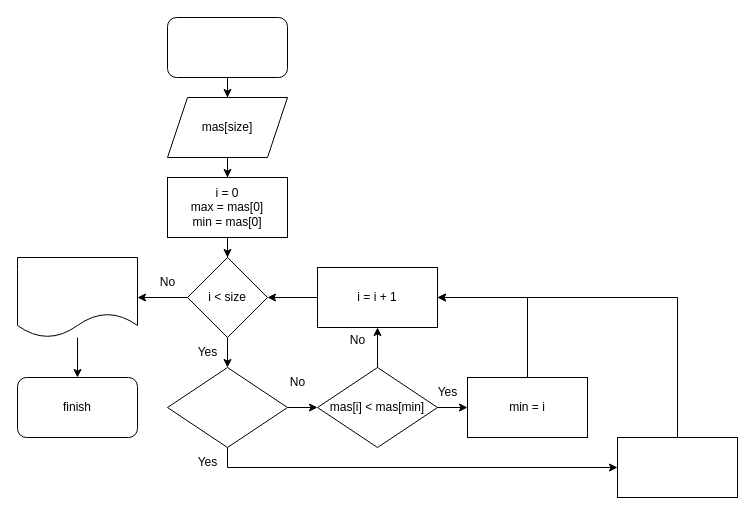
This 755x523 diagram has some shape labels left out. Each missing label, with the centre of its shape:
"mas[i] > mas[max]" goes at (x=227, y=407).
"max = i" goes at (x=677, y=467).
"max min" goes at (x=77, y=297).
"Start" goes at (x=227, y=47).
